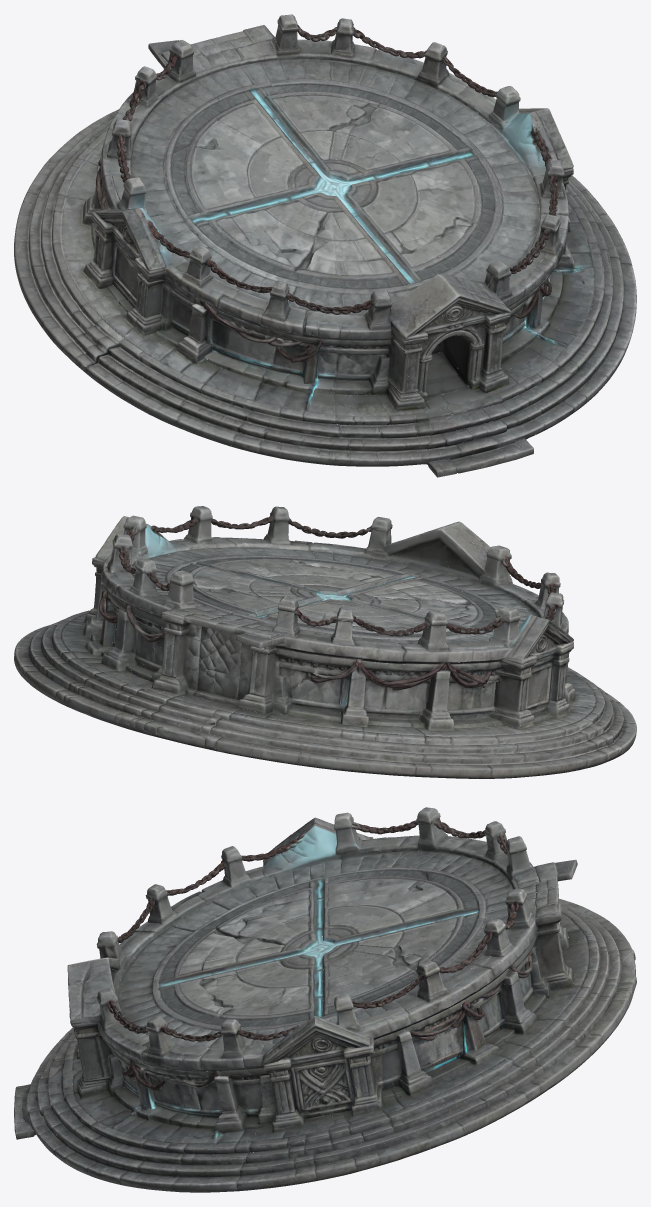
Rendered from arena_scene_lod.glb.
3 views of the same model, one above another, from view 1: azimuth 30°, elevation 25°; view 2: azimuth 150°, elevation 25°; view 3: azimuth 270°, elevation 25° (orthographic).
Visible parts, largest first — view 1: SC_ARENA; view 2: SC_ARENA; view 3: SC_ARENA.
Boxes of the visible parts, x1=… form: SC_ARENA: x1=14, y1=14, x2=636, y2=477; SC_ARENA: x1=14, y1=506, x2=636, y2=778; SC_ARENA: x1=14, y1=807, x2=636, y2=1192.
Bounding box in the file's own units: 24 × 10.67 × 23.8.
Materials: 1 (1 with a texture image).
